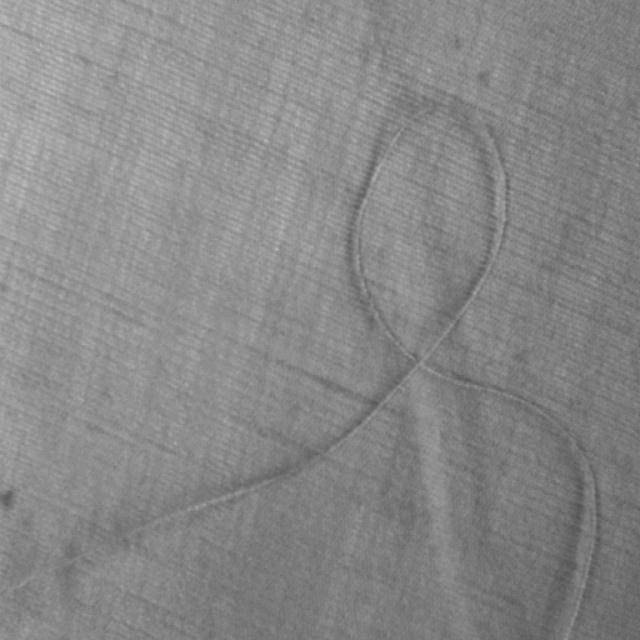objects: (0, 93, 602, 637)
